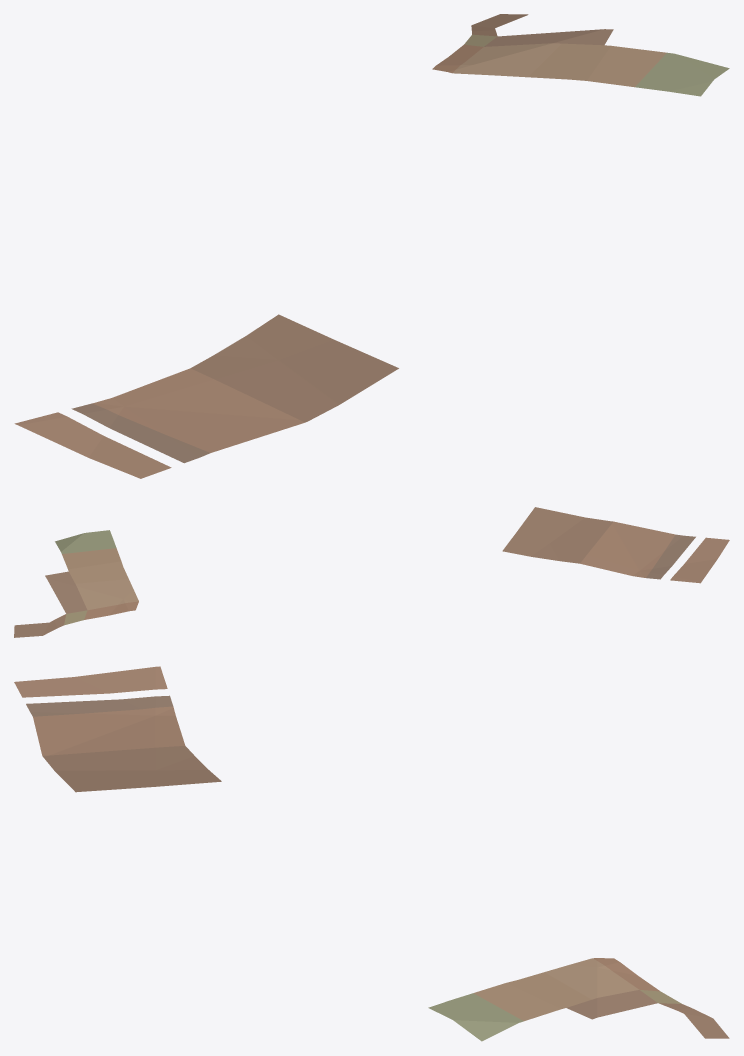
Rendered from farm_-1_13_soil.glb.
3 views of the same model, one above another, from view 1: azimuth 30°, elevation 25°; view 2: azimuth 150°, elevation 25°; view 3: azimuth 270°, elevation 25° (orthographic). The views are drawn at different scales.
Parts seen in each view (by area): view 1: geometry_0; view 2: geometry_0; view 3: geometry_0.
Part boxes in pixels (box(x1,y1,x2,y2)): geometry_0: box(14, 14, 729, 478); geometry_0: box(14, 507, 729, 637); geometry_0: box(14, 666, 729, 1041).
Bounding box in the file's own units: 473 × 27.59 × 389.
